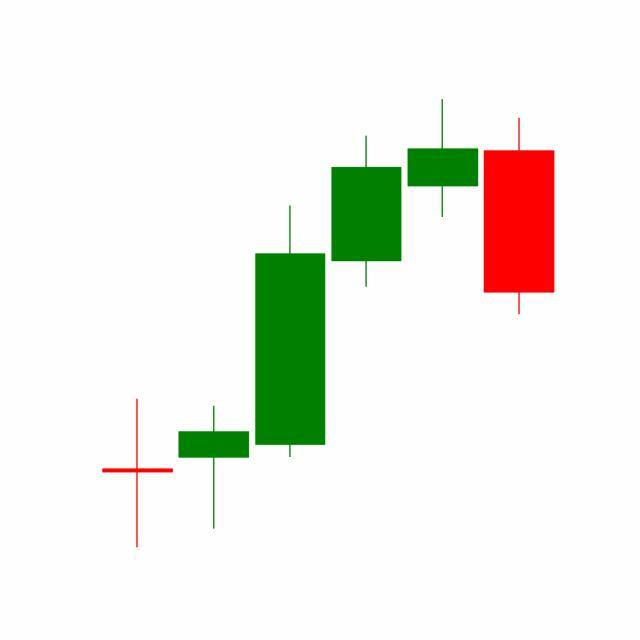Advance Block: (252, 100, 482, 463)
